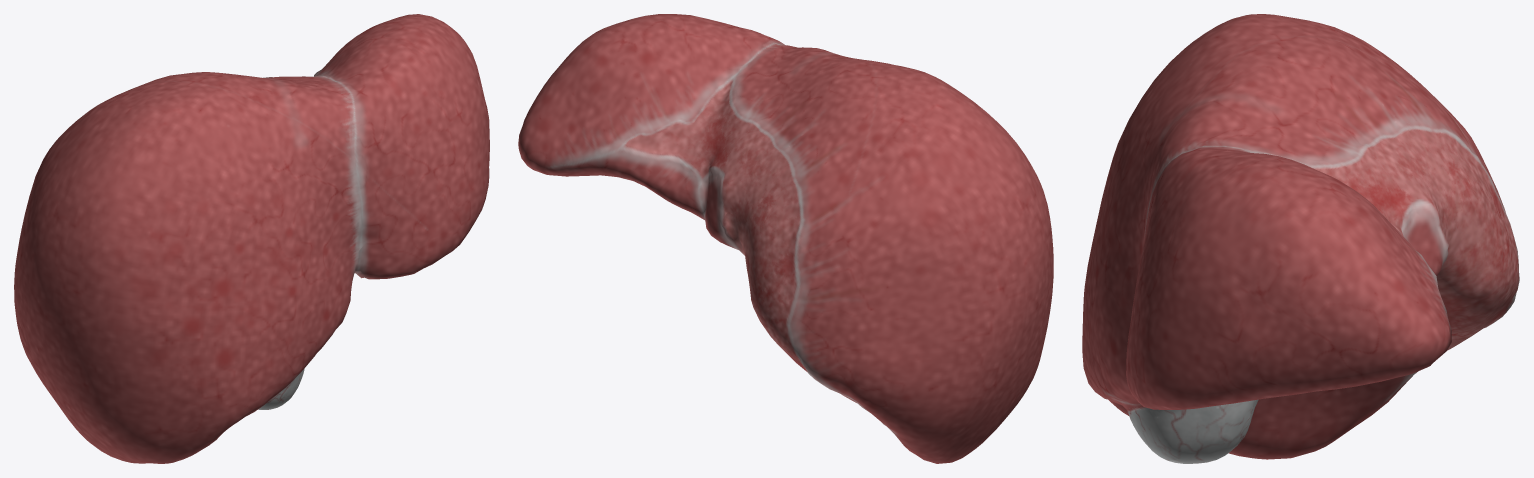
File: Nash_Fib_Liver.glb
3 views of the same model, side by side, from view 1: azimuth 30°, elevation 25°; view 2: azimuth 150°, elevation 25°; view 3: azimuth 270°, elevation 25° (orthographic). The views are drawn at different scales.
Visible parts, largest first — view 1: NASH_Fib_Liver; view 2: NASH_Fib_Liver; view 3: NASH_Fib_Liver.
Boxes of the visible parts, <box> form: NASH_Fib_Liver: <box>14,14,489,463</box>; NASH_Fib_Liver: <box>518,14,1053,463</box>; NASH_Fib_Liver: <box>1082,14,1519,463</box>.
Bounding box in the file's own units: 19.6 × 14.74 × 12.54.
1 material, 1 textured.
